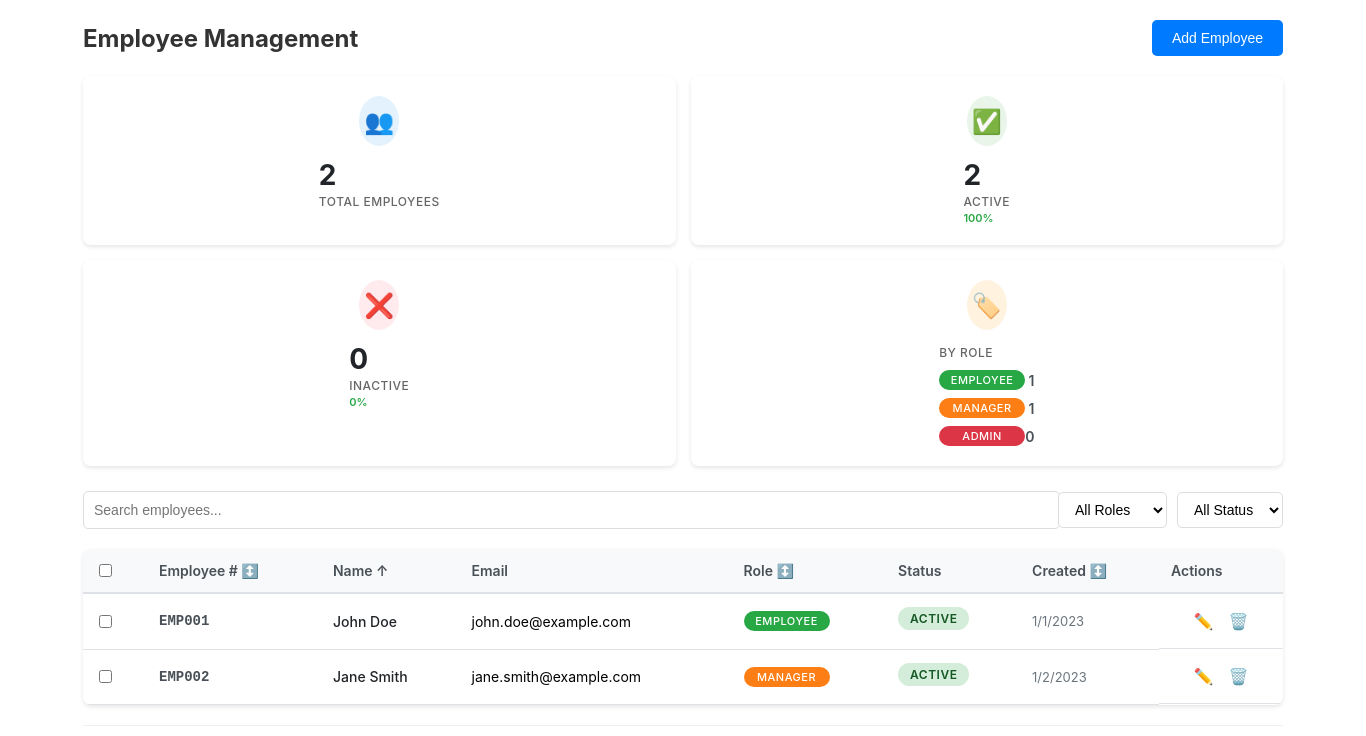
EmployeeManagement › handles employee selection
What coordinates should you click on to do the following:
click the checkbox next to "EMP001"
I would click on:
 (106, 621)
Its box is [99,615,112,628].
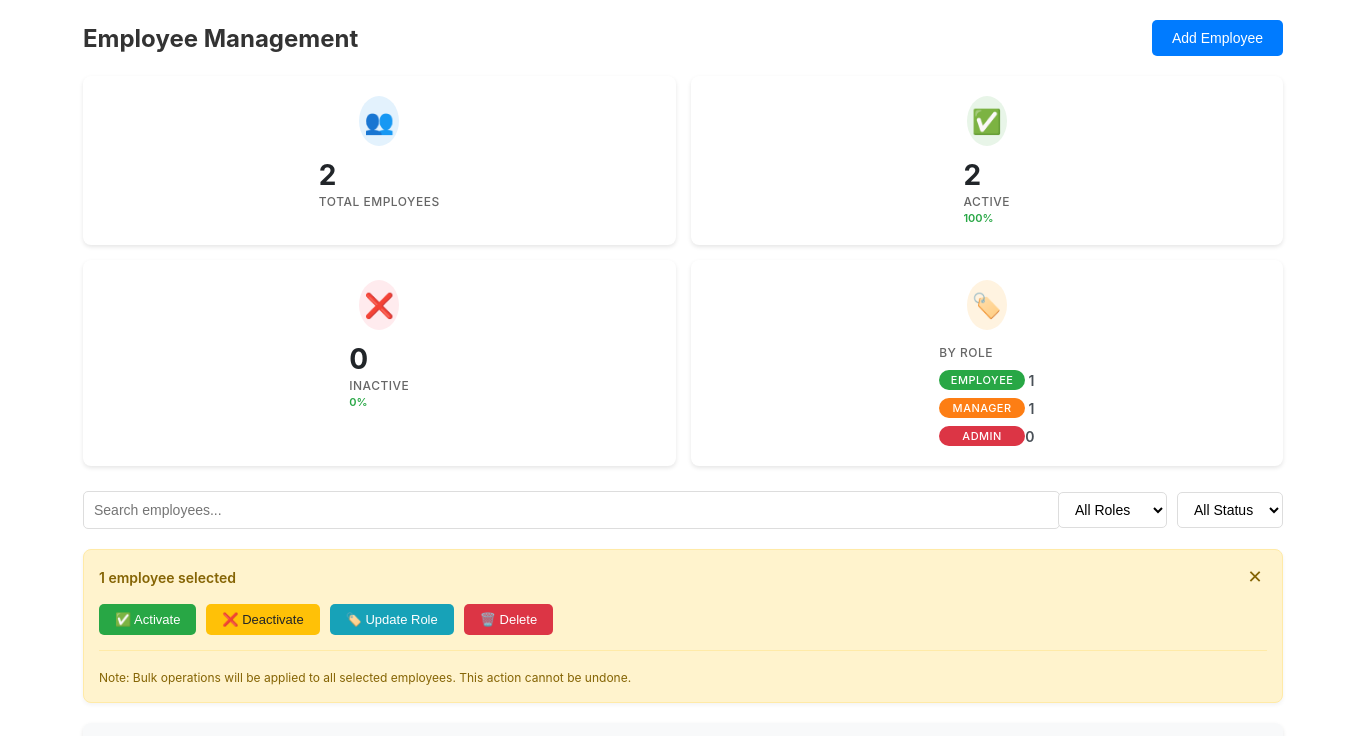
Check: the text "1 employee selected" is shown, box [99,568,236,586]
